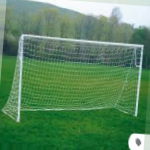goals: (1, 32, 146, 127)
